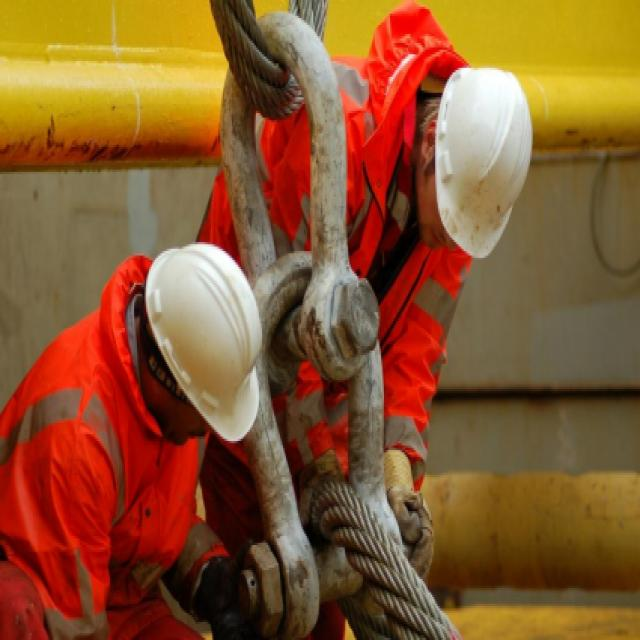Reflective-Jacket: (0, 321, 206, 633)
Safety-Helmet: (142, 235, 265, 448), (428, 61, 533, 265)
